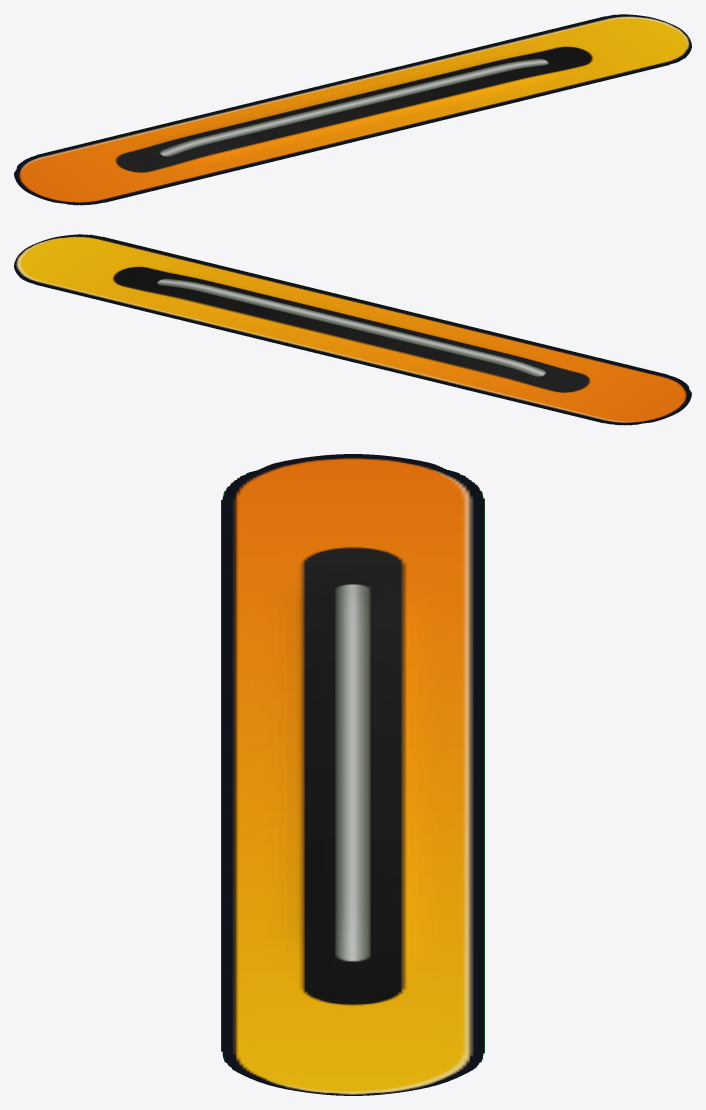
The model's file is pinn.fbx.
3 views of the same model, one above another, from view 1: azimuth 30°, elevation 25°; view 2: azimuth 150°, elevation 25°; view 3: azimuth 270°, elevation 25° (orthographic). The views are drawn at different scales.
Parts seen in each view (by area): view 1: Plane; view 2: Plane; view 3: Plane.
Part boxes in pixels (x1=…): Plane: x1=14, y1=14, x2=691, y2=205; Plane: x1=14, y1=234, x2=691, y2=425; Plane: x1=221, y1=454, x2=484, y2=1095.
Size of the model in its own units: 1150 by 10.13 by 200.
